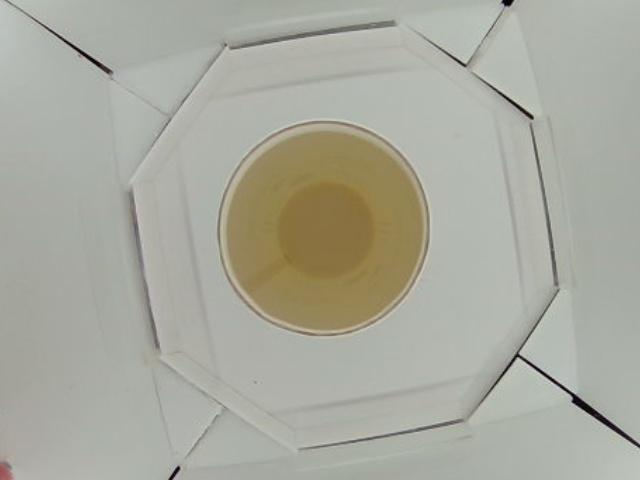Cup: (219, 119, 433, 338)
